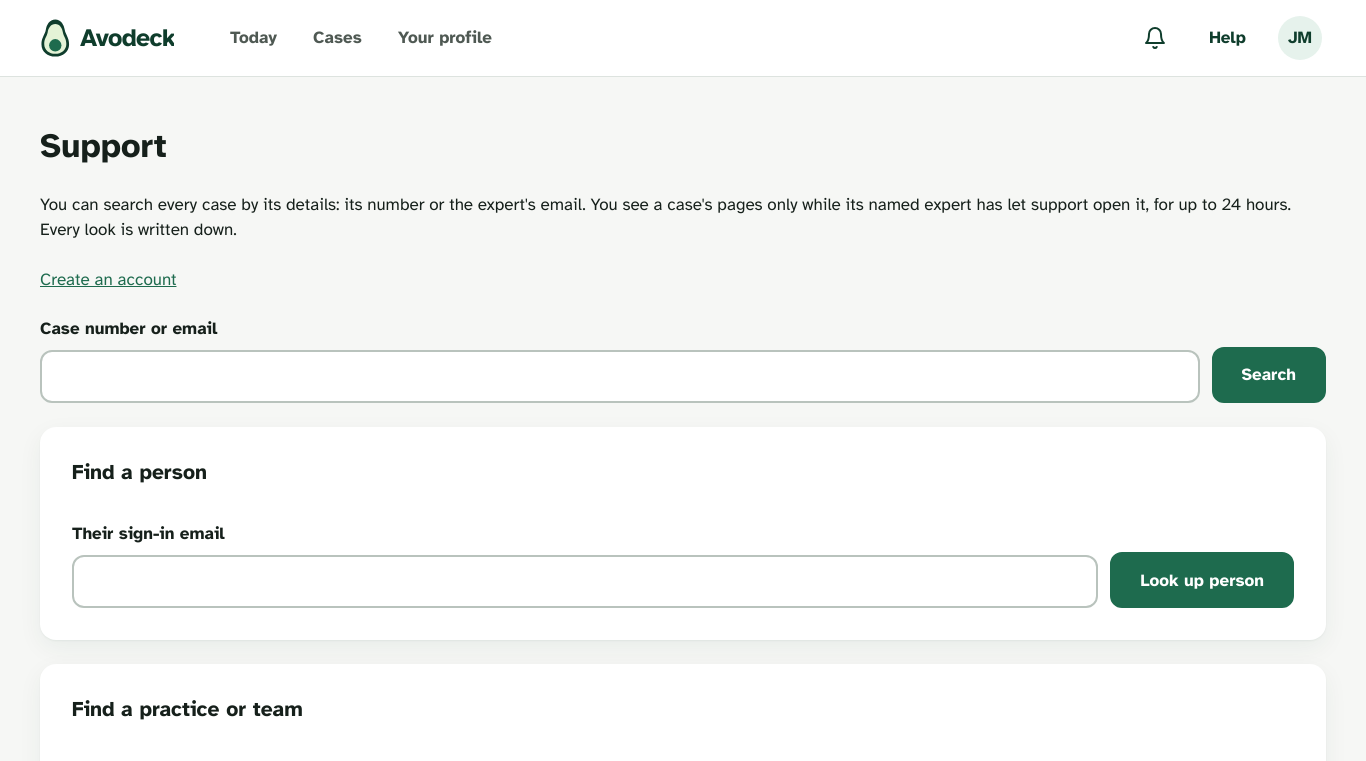
Test: someone who is not staff sees the not found page, not a console
The image size is (1366, 761).
In the field labelled "Case number or email": (620, 376) [40, 350, 1200, 403], type "44444444-4444-4444-8444-444444444444"
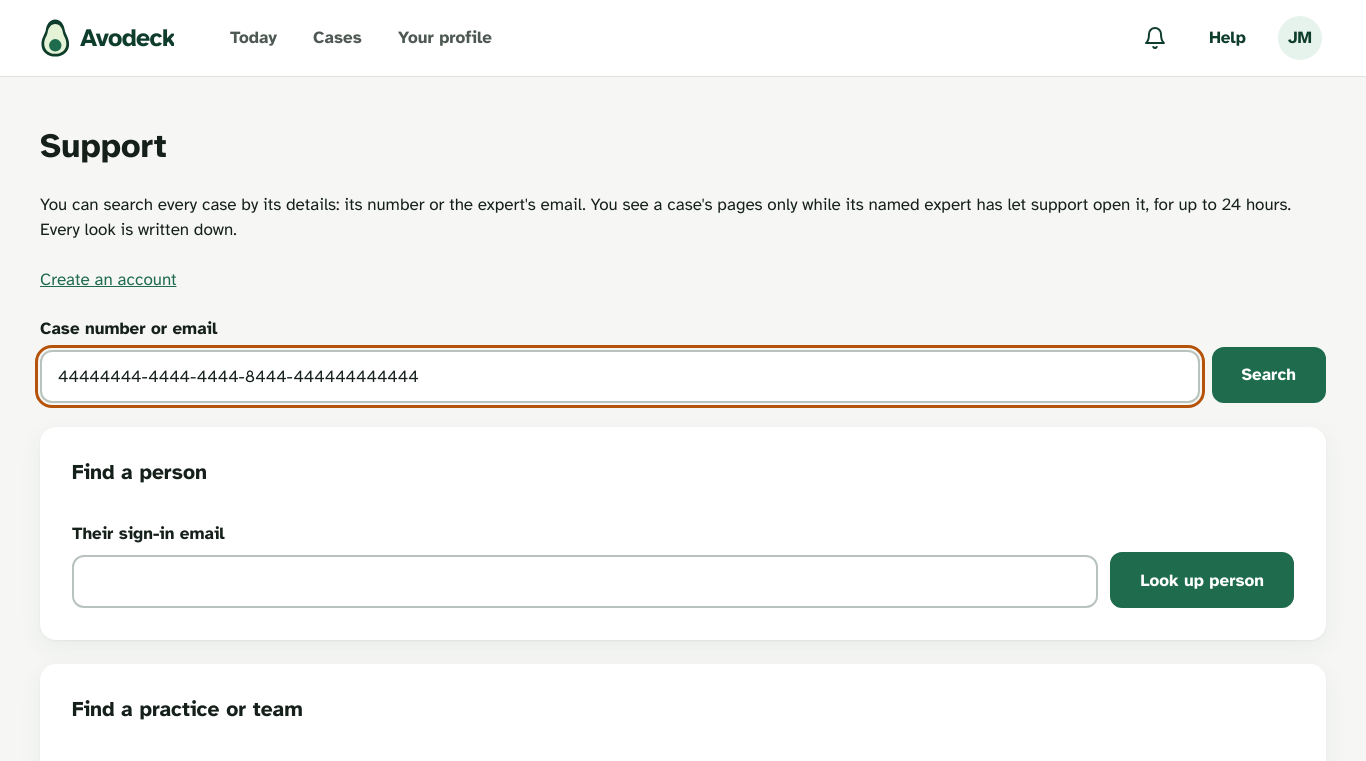
Click the button "Search": (1269, 375) [1212, 347, 1326, 403]
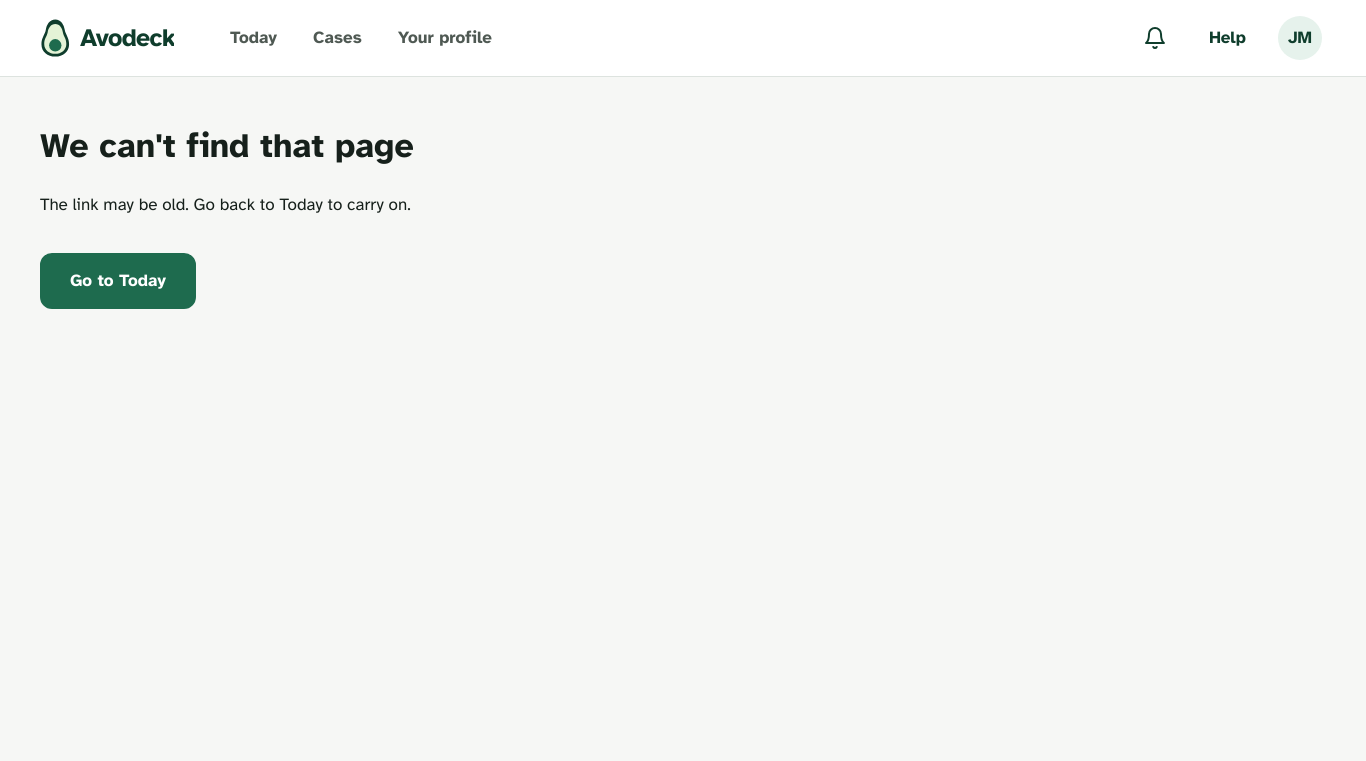
Now the heading no longer shows "Support", box [40, 125, 414, 167]
